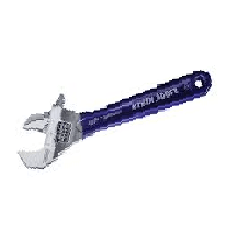wrench: (14, 67, 212, 171)
